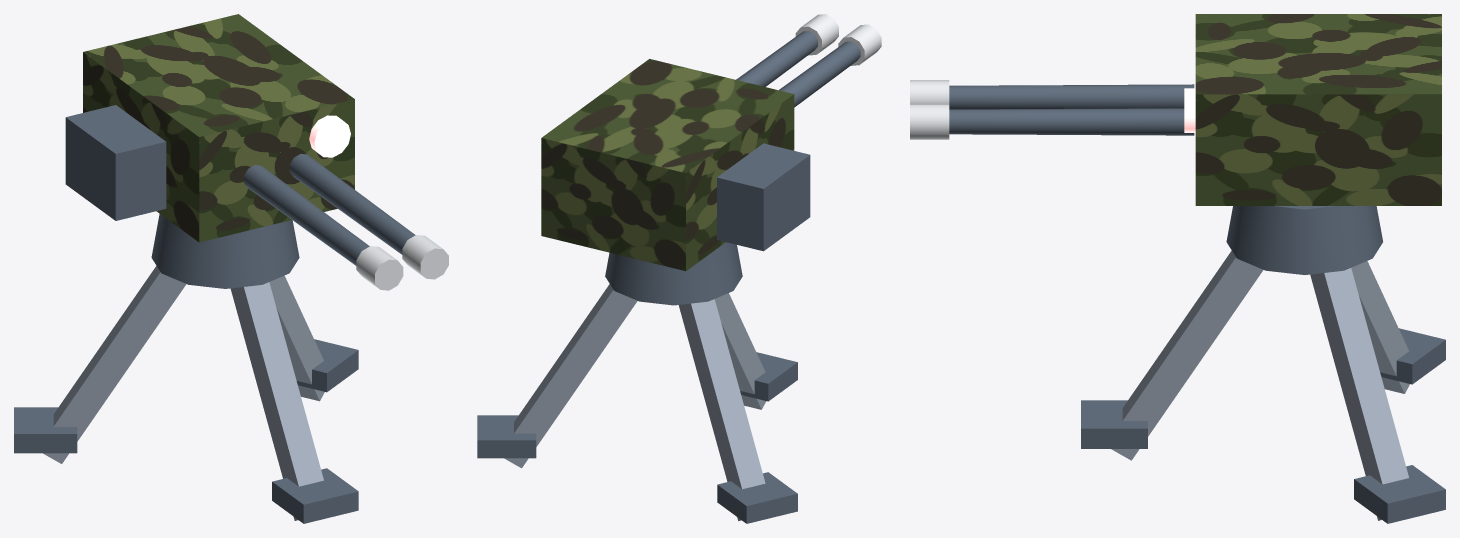
Rendered from turret_auto_sentry.glb.
The picture shows the model from 3 angles, left to right: view 1: azimuth 30°, elevation 25°; view 2: azimuth 150°, elevation 25°; view 3: azimuth 270°, elevation 25°; orthographic projection. The views are drawn at different scales.
Parts seen in each view (by area): view 1: turret_head_pivot, turret_auto_sentry, turret_barrel_pivot; view 2: turret_head_pivot, turret_auto_sentry, turret_barrel_pivot; view 3: turret_head_pivot, turret_auto_sentry, turret_barrel_pivot.
Boxes of the visible parts, left/top/right/bottom form: turret_head_pivot: left=65, top=14, right=354, bottom=242; turret_auto_sentry: left=14, top=214, right=358, bottom=523; turret_barrel_pivot: left=244, top=154, right=448, bottom=290; turret_head_pivot: left=541, top=59, right=810, bottom=271; turret_auto_sentry: left=477, top=242, right=797, bottom=523; turret_barrel_pivot: left=736, top=14, right=881, bottom=107; turret_head_pivot: left=1184, top=14, right=1441, bottom=205; turret_auto_sentry: left=1081, top=206, right=1445, bottom=523; turret_barrel_pivot: left=910, top=80, right=1194, bottom=139.
Size of the model in its own units: 1.51 by 1.58 by 1.91.
Materials: 5 (1 with a texture image).
